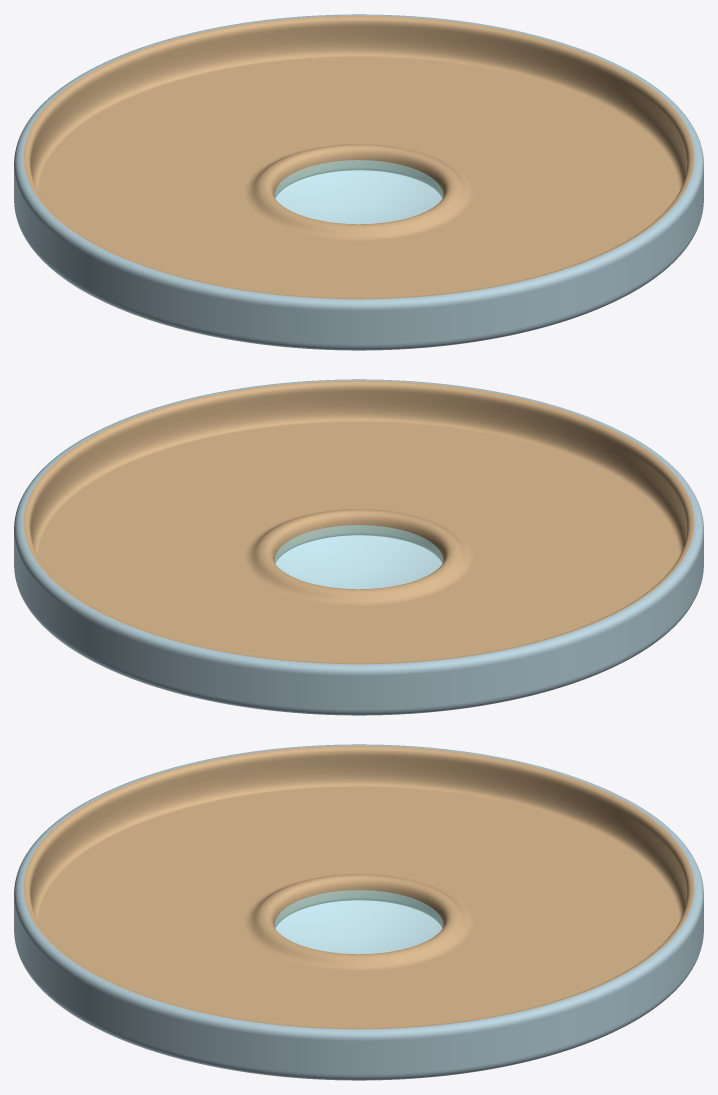
File: ground.glb
The picture shows the model from 3 angles, top to bottom: view 1: azimuth 30°, elevation 25°; view 2: azimuth 150°, elevation 25°; view 3: azimuth 270°, elevation 25°; orthographic projection.
Visible parts, largest first — view 1: lobby-ground; view 2: lobby-ground; view 3: lobby-ground.
Boxes of the visible parts, x1,y1,x2,y2 form: lobby-ground: (14,14,703,350); lobby-ground: (14,379,703,715); lobby-ground: (14,744,703,1080).
Bounding box in the file's own units: 18 × 1.57 × 18.
